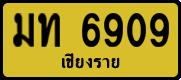letters: (37, 11, 62, 48), (149, 11, 170, 50), (126, 11, 147, 49), (13, 12, 35, 48), (103, 11, 124, 48), (80, 12, 101, 48)
province: (59, 51, 120, 69)
